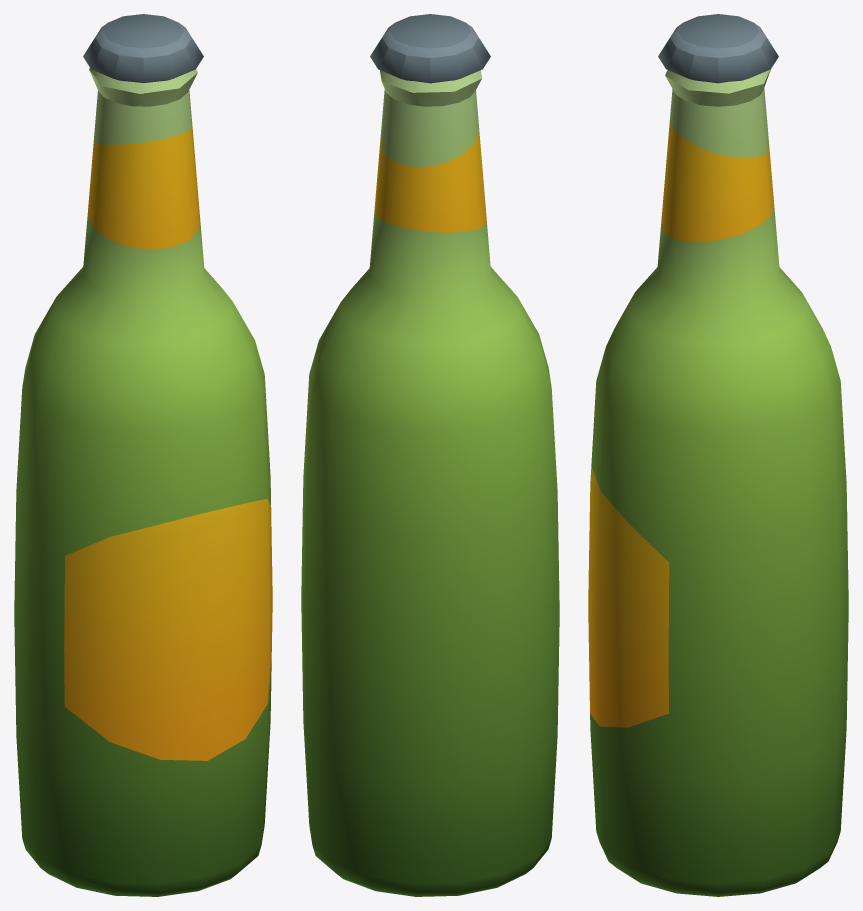
Rendered from bottle_026.fbx.
3 renders of one model, left to right at view 1: azimuth 30°, elevation 25°; view 2: azimuth 150°, elevation 25°; view 3: azimuth 270°, elevation 25°, orthographic.
Parts seen in each view (by area): view 1: bottle_026; view 2: bottle_026; view 3: bottle_026.
Boxes of the visible parts, x1,y1,x2,y2 form: bottle_026: (14,14,272,896); bottle_026: (301,14,559,896); bottle_026: (588,14,848,896).
Bounding box in the file's own units: 6.42 × 6.42 × 22.36.
